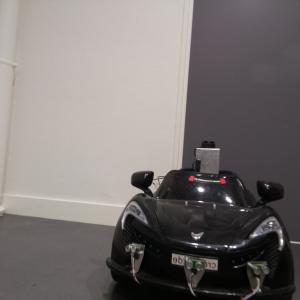big: (103, 164, 297, 300)
